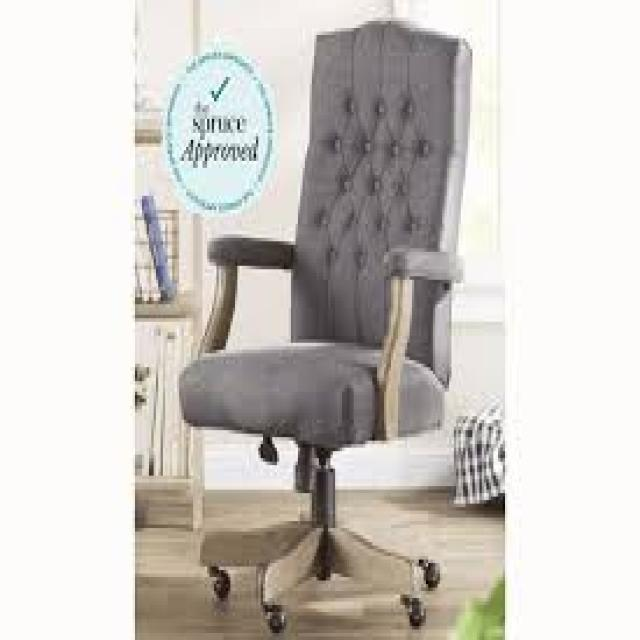chair: (167, 10, 488, 640)
